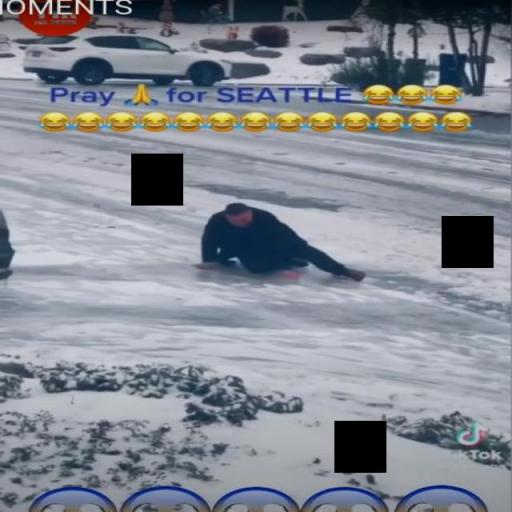Fall: (197, 194, 372, 285)
